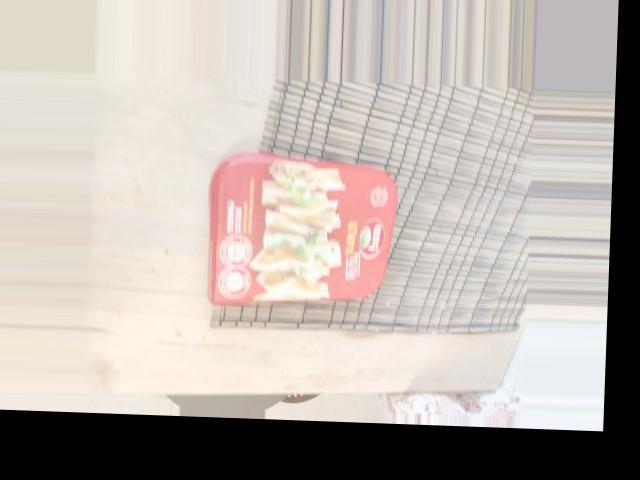cheese: (307, 100, 445, 279)
